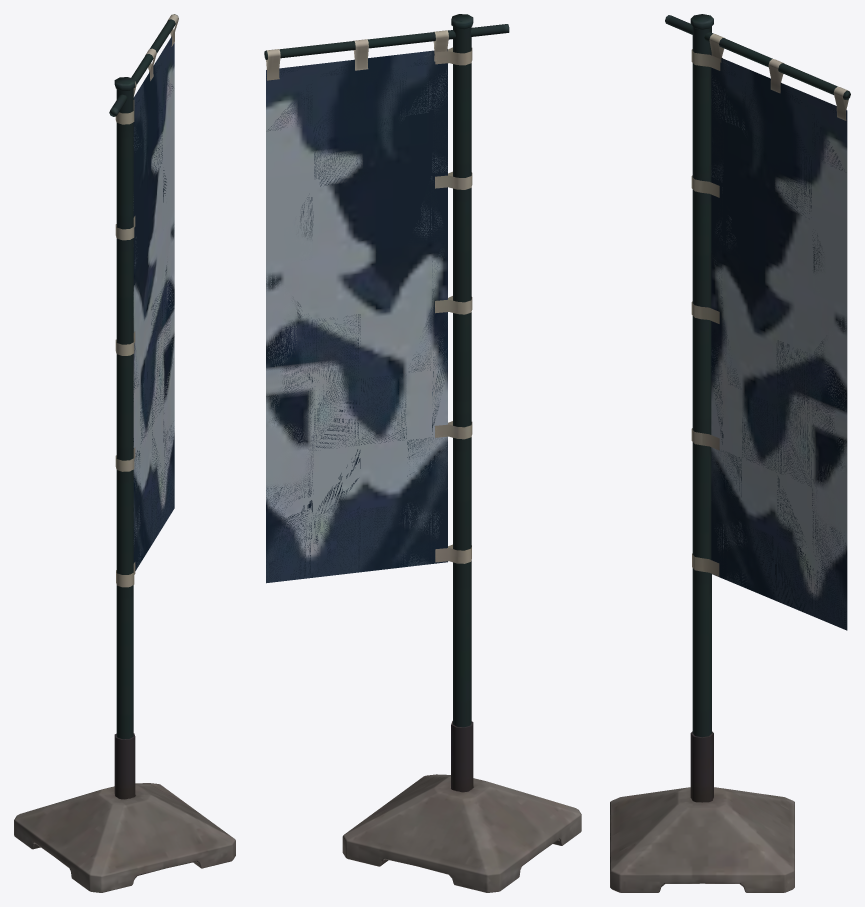
3 renders of one model, left to right at view 1: azimuth 30°, elevation 25°; view 2: azimuth 150°, elevation 25°; view 3: azimuth 270°, elevation 25°, orthographic. The views are drawn at different scales.
Bounding box in the file's own units: 7.78 × 29.59 × 7.74.
Materials: 2 (2 with a texture image).
